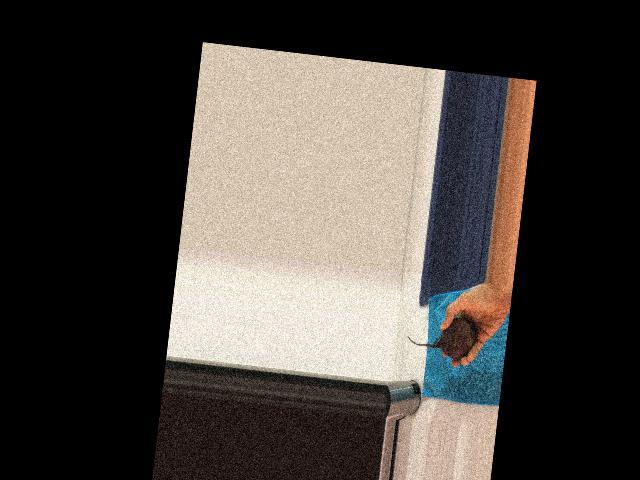beet: (405, 312, 480, 362)
